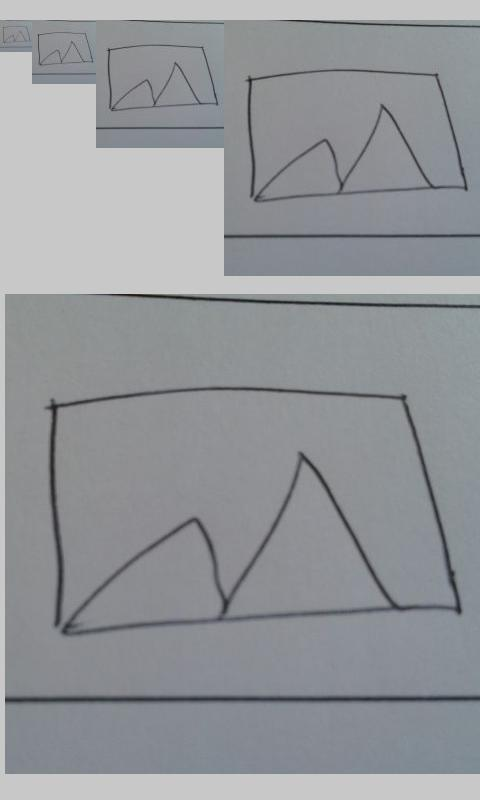image_view: (42, 384, 462, 639), (245, 68, 467, 203), (106, 43, 219, 111), (37, 31, 94, 66), (2, 24, 31, 44)
